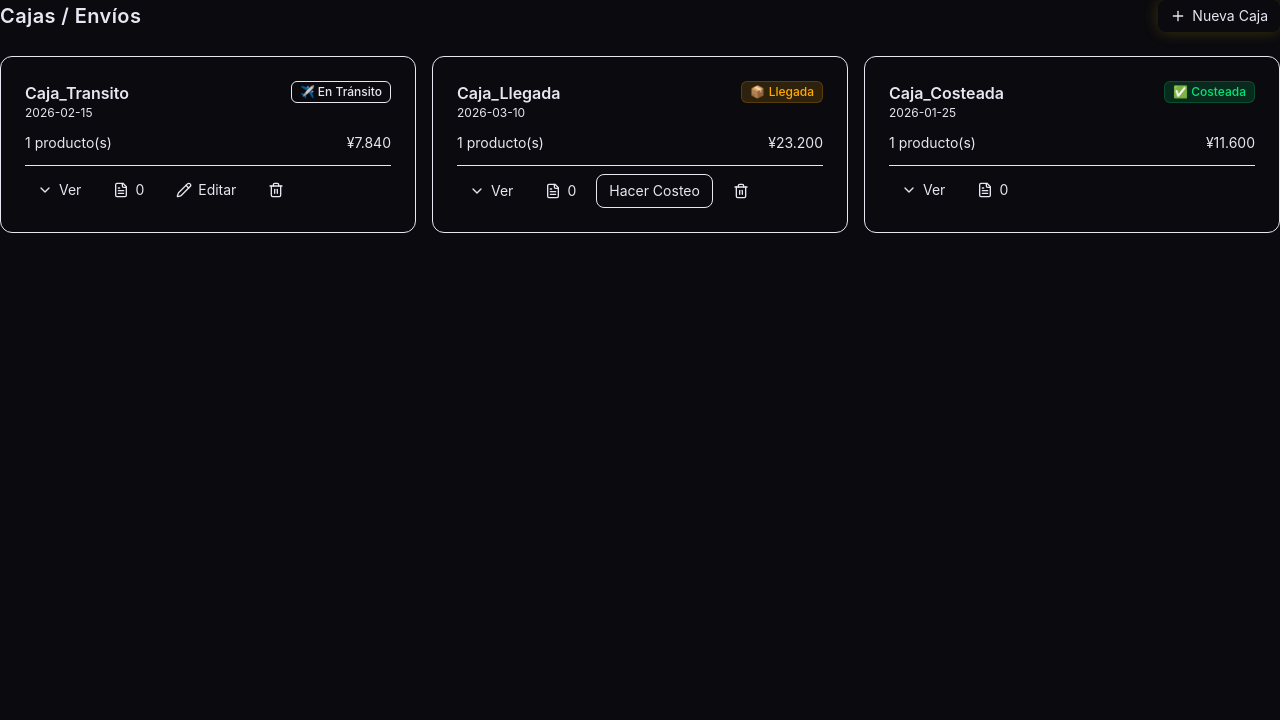
Scenario: CajasPage › opens modal when Nueva Caja is clicked
Click the button "Nueva Caja".
click(1219, 16)  # box [1158, 0, 1279, 32]
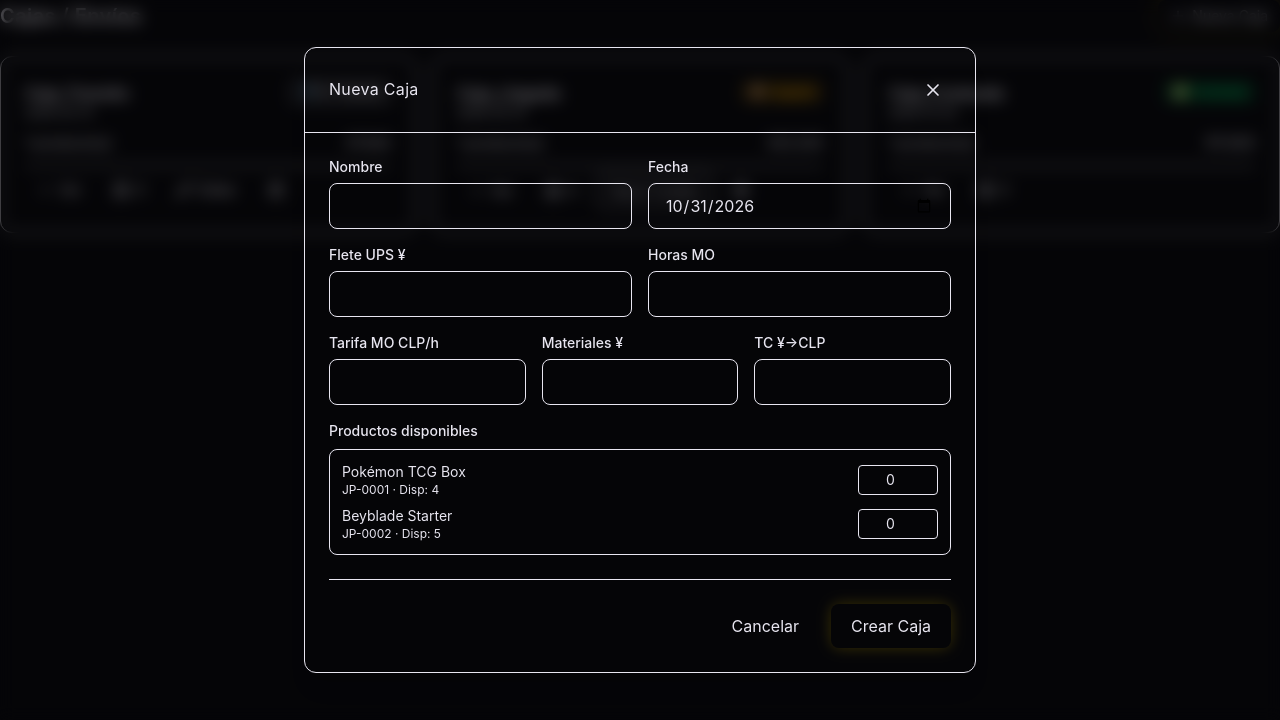
Result: the text "Nombre" is shown at [329, 158, 382, 175]
Result: the text "Flete UPS ¥" is shown at [329, 246, 406, 263]
Result: the text "Horas MO" is shown at [648, 246, 715, 263]
